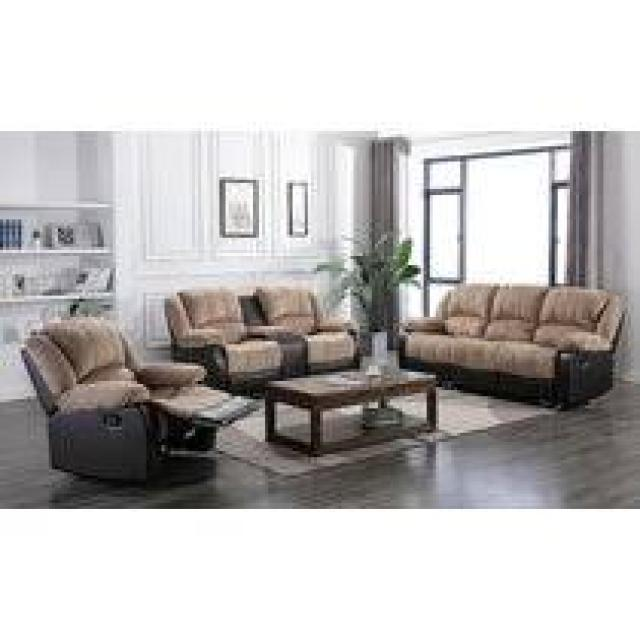Chair: (17, 324, 251, 485)
Sofa: (404, 280, 621, 406), (177, 282, 365, 369)
Table: (275, 363, 434, 454)
